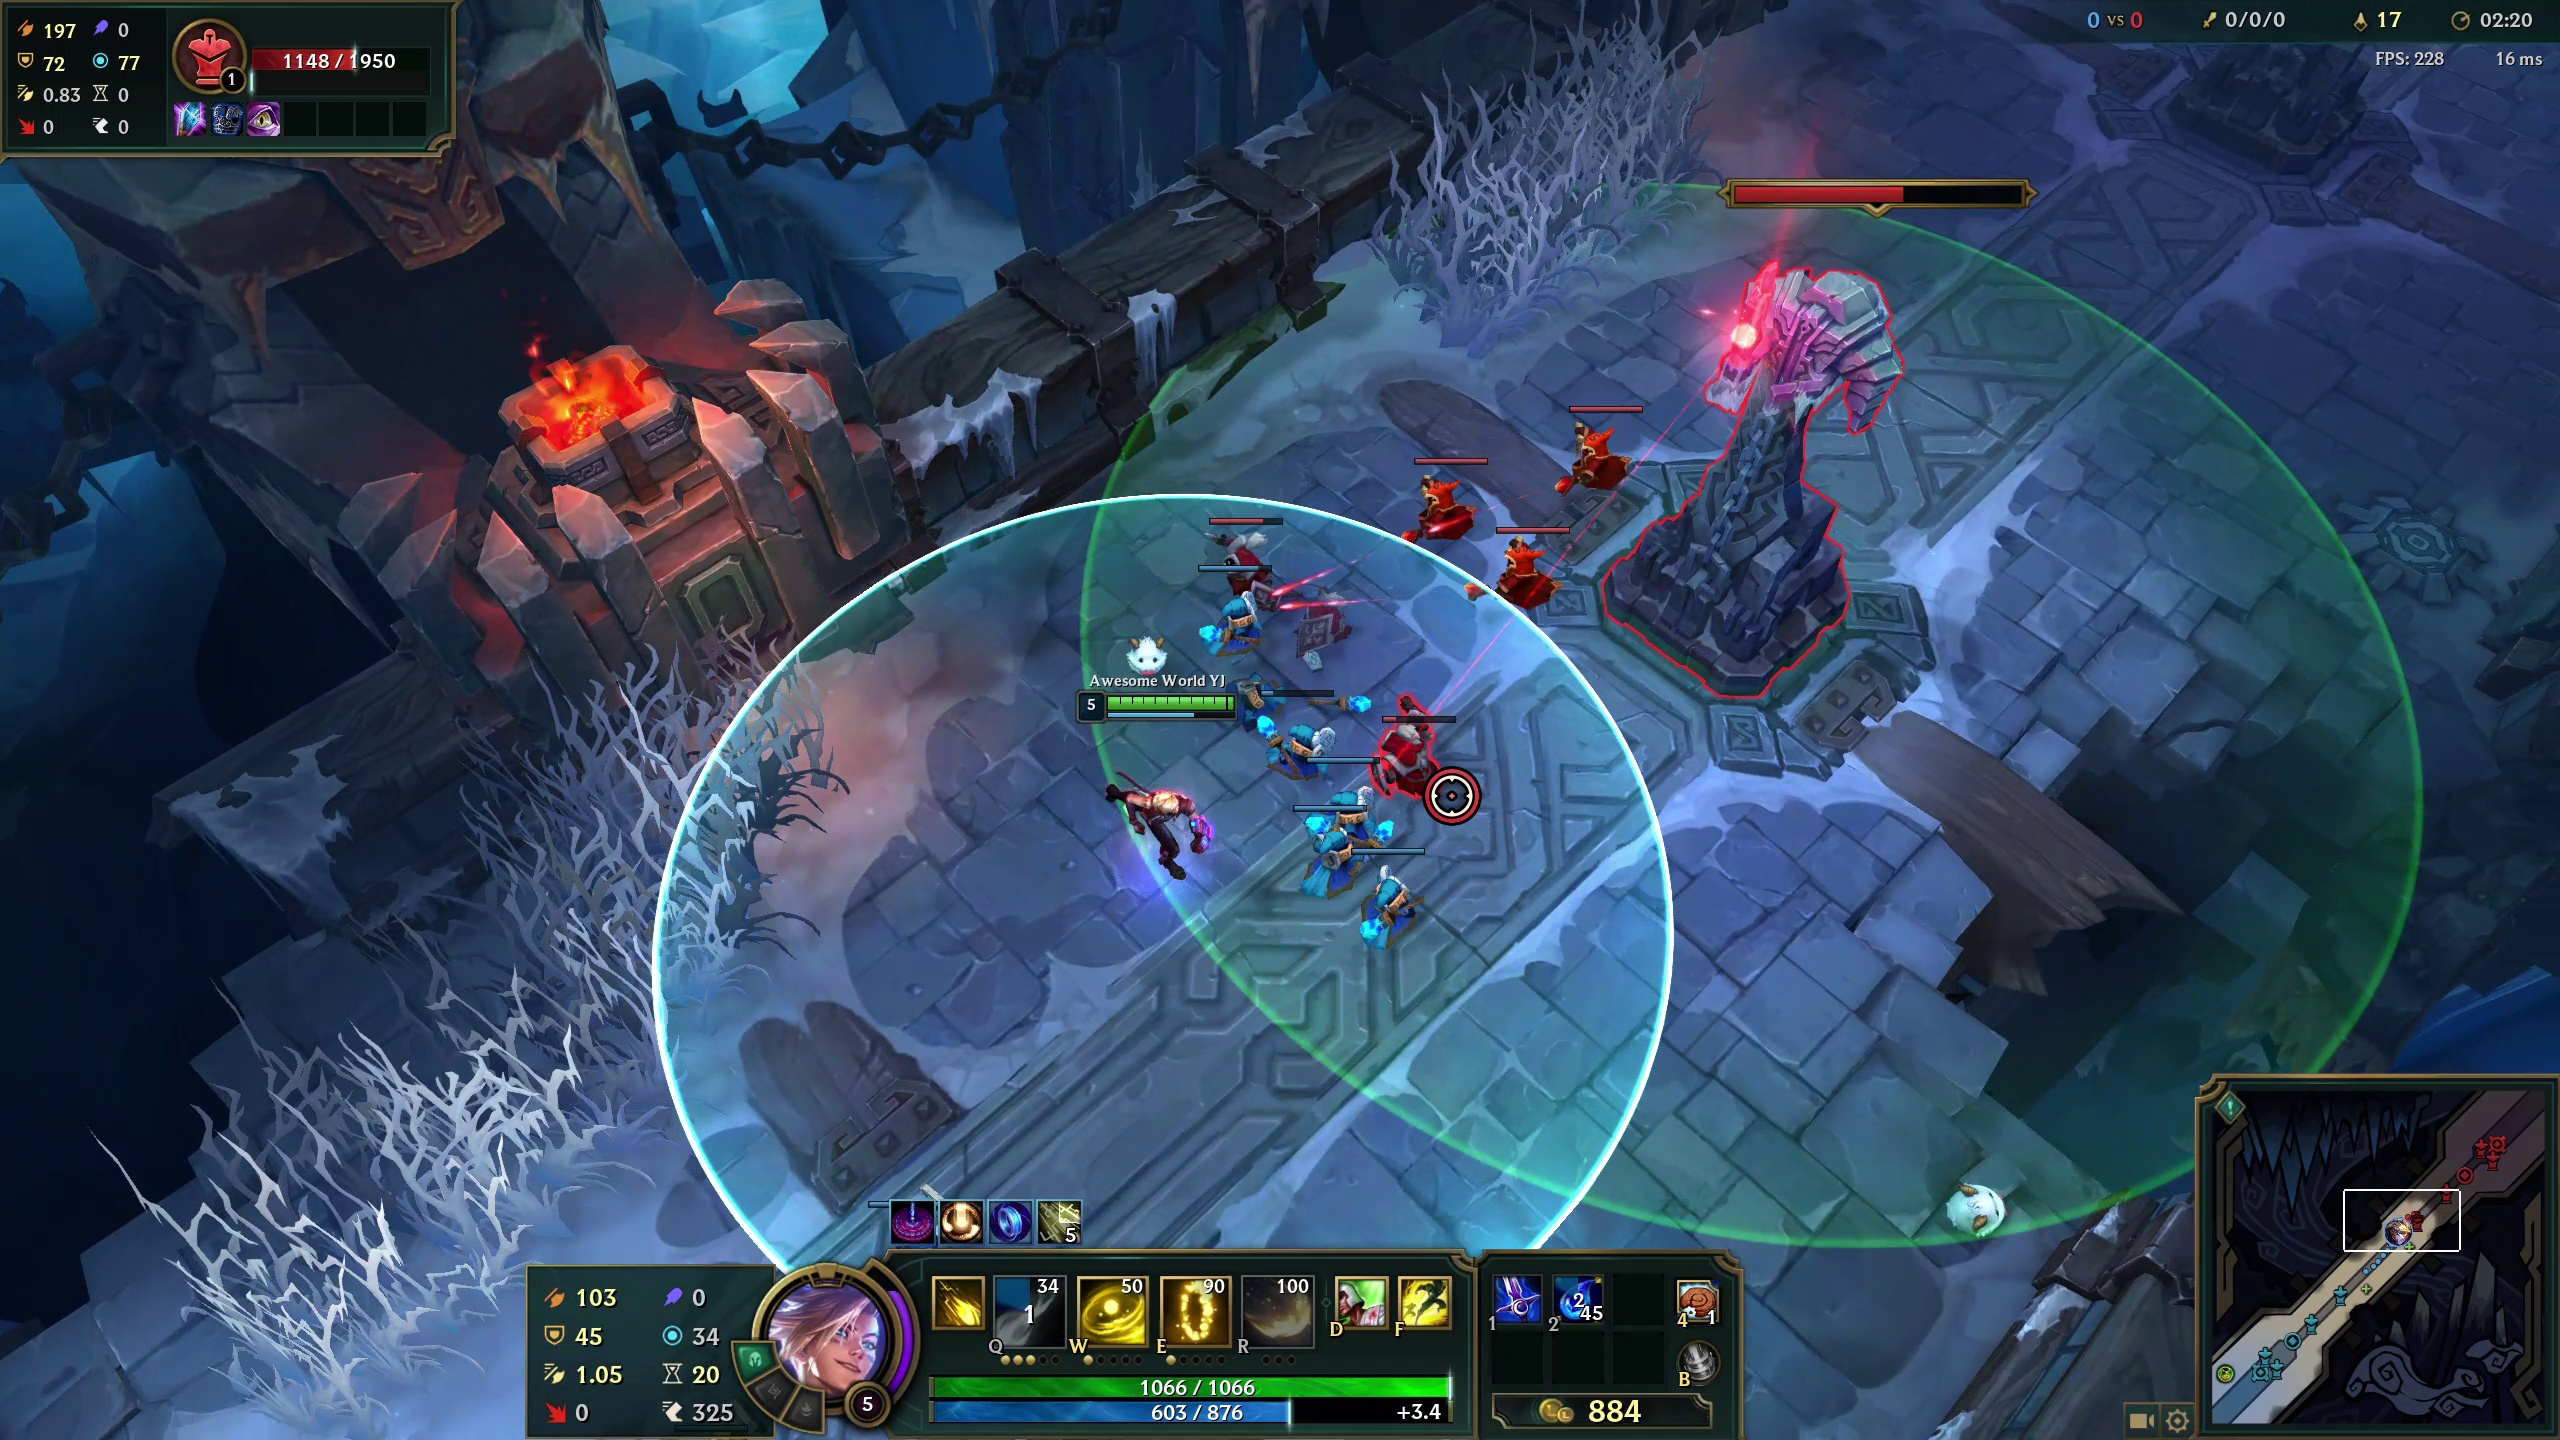EZ: (1013, 536, 1169, 765)
EnemyMinion: (1561, 406, 1637, 489), (1371, 709, 1449, 788), (1407, 454, 1482, 535), (1208, 508, 1284, 589), (1487, 527, 1563, 607)
Glass: (533, 714, 788, 969), (1407, 84, 1667, 294), (227, 1094, 496, 1257)
MyMinion: (1280, 744, 1400, 847), (1276, 800, 1394, 904), (1159, 552, 1276, 656), (1347, 839, 1466, 941), (1250, 689, 1370, 791)
Turret: (1662, 265, 1943, 700), (2164, 44, 2354, 158)
